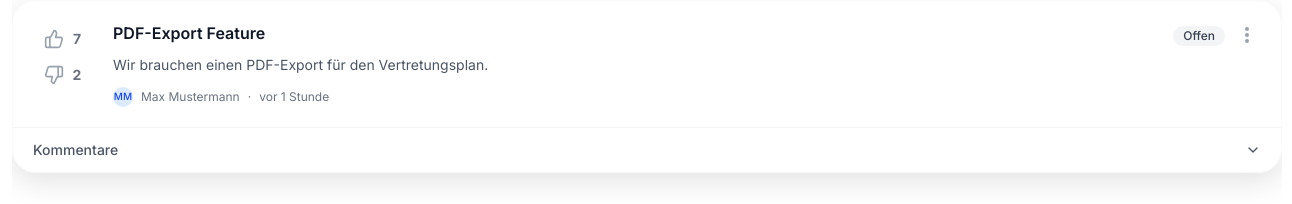
it: SuggestionCard › closes menu when clicking outside
Click the button named "Aktionen": point(1247, 35) top-left (1233, 21), bottom-right (1261, 49)
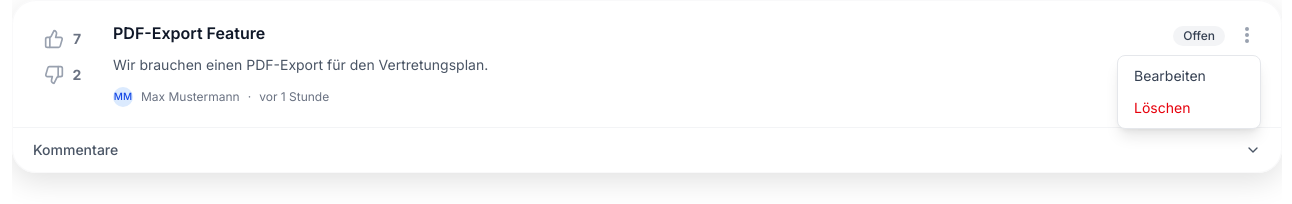
Check: the button "Bearbeiten" is shown, box top-left (1122, 60), bottom-right (1256, 92)
Note: Click outside the menu
Press the mouse on the element that starts with "PDF-Export Feature": point(647, 86) top-left (12, 0), bottom-right (1282, 173)
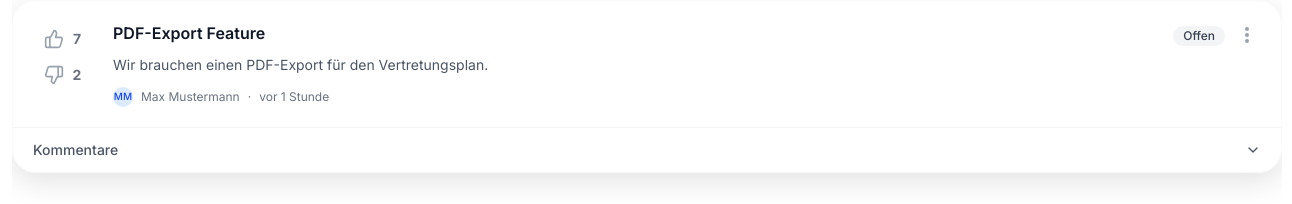
Check: the button "Bearbeiten" is gone
